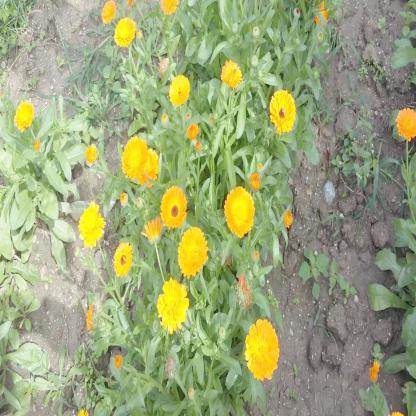marigold: (245, 320, 280, 381), (156, 278, 190, 331), (224, 184, 256, 235), (178, 229, 208, 275), (76, 202, 105, 249), (271, 89, 296, 131), (122, 136, 146, 177), (161, 187, 186, 226), (396, 107, 415, 141), (115, 18, 136, 48), (169, 72, 190, 102), (14, 98, 34, 129), (114, 240, 131, 276), (221, 58, 242, 86), (101, 0, 117, 23)
